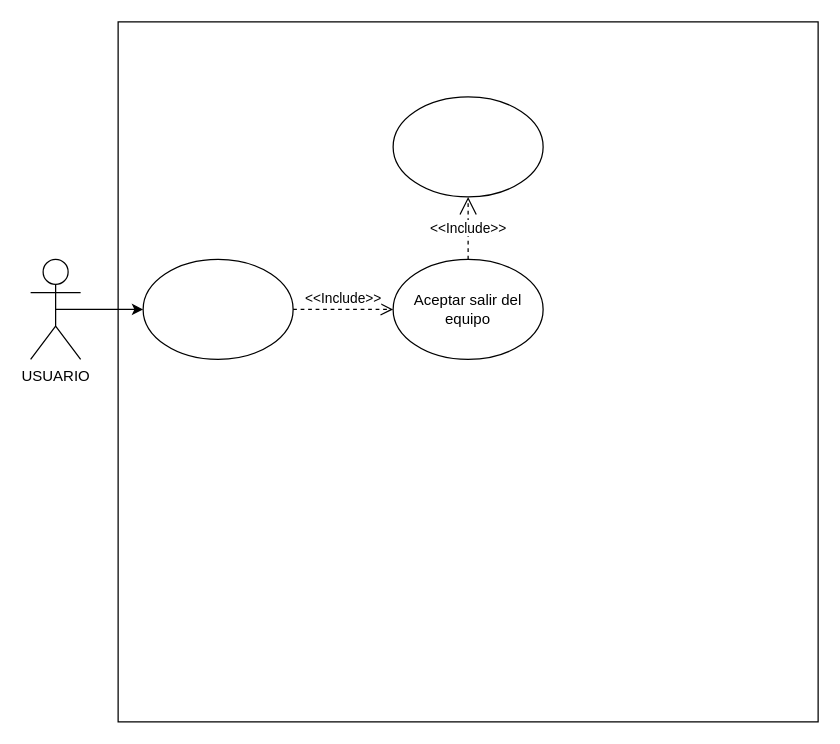
Some shapes in this 840 by 744 pixel diagram are drawn without their labels. Here are the shapes that lost their labels. From the top down, the centre of each, then its label:
At point 467,146: "Salir del equipo".
At point 217,308: "Salir de un equipo".
